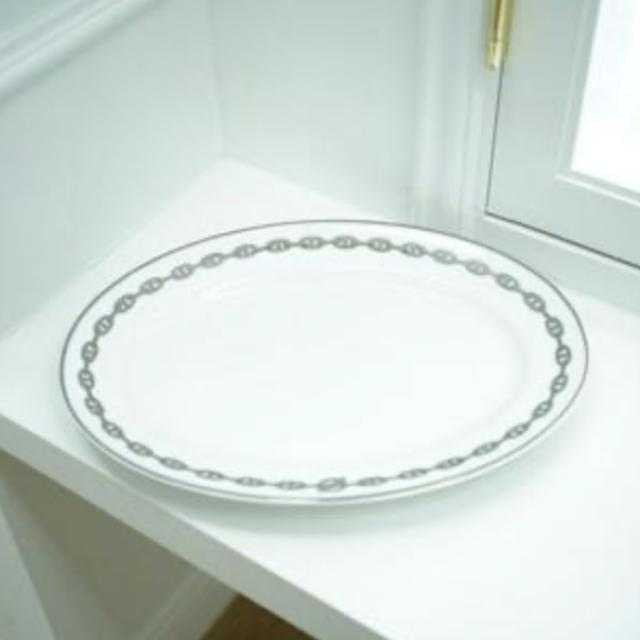recyclable: (57, 198, 594, 521)
